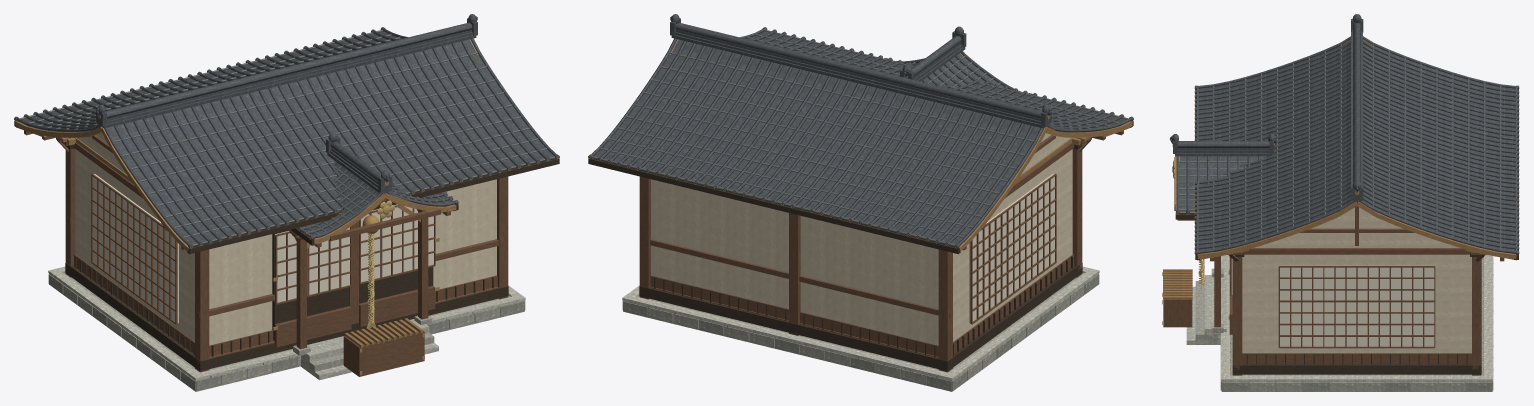
File: shrine_main-exterior-refined-v1.glb
3 views of the same model, side by side, from view 1: azimuth 30°, elevation 25°; view 2: azimuth 150°, elevation 25°; view 3: azimuth 270°, elevation 25° (orthographic). The views are drawn at different scales.
Visible parts, largest first — view 1: shrine_main_01_原有建筑轮廓与构件_EX_50565a_dark_rock_surface, shrine_main_02_屋顶瓦作_EX_50565a_dark_rock_surface, shrine_main_01_原有建筑轮廓与构件_EX_71533d_fine_grained_wood_surface, shrine_main_01_原有建筑轮廓与构件_EX_d5c8ae_grey_plaster_surface, shrine_main_03_窗面与灯具_EX_e6deca_Paper001_window, shrine_main_01_原有建筑轮廓与构件_EX_41362b_fine_grained_wood_surface, shrine_main_01_原有建筑轮廓与构件_EX_6d7070_plain_surface, shrine_main_01_原有建筑轮廓与构件_EX_a4a49a_dark_rock_surface, shrine_main_01_原有建筑轮廓与构件_EX_a17c51_fine_grained_wood_surface, shrine_main_01_原有建筑轮廓与构件_EX_bebdaf_dark_rock_surface, shrine_main_01_原有建筑轮廓与构件_EX_92968b_dark_rock_surface, shrine_main_01_原有建筑轮廓与构件_EX_b5b5a9_dark_rock_surface (+1 smaller); view 2: shrine_main_02_屋顶瓦作_EX_50565a_dark_rock_surface, shrine_main_01_原有建筑轮廓与构件_EX_50565a_dark_rock_surface, shrine_main_01_原有建筑轮廓与构件_EX_d5c8ae_grey_plaster_surface, shrine_main_01_原有建筑轮廓与构件_EX_71533d_fine_grained_wood_surface, shrine_main_01_原有建筑轮廓与构件_EX_41362b_fine_grained_wood_surface, shrine_main_01_原有建筑轮廓与构件_EX_6d7070_plain_surface, shrine_main_03_窗面与灯具_EX_e6deca_Paper001_window, shrine_main_01_原有建筑轮廓与构件_EX_a4a49a_dark_rock_surface, shrine_main_01_原有建筑轮廓与构件_EX_bebdaf_dark_rock_surface, shrine_main_01_原有建筑轮廓与构件_EX_92968b_dark_rock_surface, shrine_main_01_原有建筑轮廓与构件_EX_a17c51_fine_grained_wood_surface; view 3: shrine_main_01_原有建筑轮廓与构件_EX_50565a_dark_rock_surface, shrine_main_02_屋顶瓦作_EX_50565a_dark_rock_surface, shrine_main_01_原有建筑轮廓与构件_EX_71533d_fine_grained_wood_surface, shrine_main_01_原有建筑轮廓与构件_EX_d5c8ae_grey_plaster_surface, shrine_main_03_窗面与灯具_EX_e6deca_Paper001_window, shrine_main_01_原有建筑轮廓与构件_EX_6d7070_plain_surface, shrine_main_01_原有建筑轮廓与构件_EX_a4a49a_dark_rock_surface, shrine_main_01_原有建筑轮廓与构件_EX_bebdaf_dark_rock_surface, shrine_main_01_原有建筑轮廓与构件_EX_41362b_fine_grained_wood_surface, shrine_main_01_原有建筑轮廓与构件_EX_a17c51_fine_grained_wood_surface, shrine_main_01_原有建筑轮廓与构件_EX_b5b5a9_dark_rock_surface, shrine_main_01_原有建筑轮廓与构件_EX_92968b_dark_rock_surface.
Boxes of the visible parts, x1,y1,x2,y2 form: shrine_main_01_原有建筑轮廓与构件_EX_50565a_dark_rock_surface: (14, 18, 559, 248); shrine_main_02_屋顶瓦作_EX_50565a_dark_rock_surface: (22, 31, 553, 244); shrine_main_01_原有建筑轮廓与构件_EX_71533d_fine_grained_wood_surface: (24, 130, 508, 376); shrine_main_01_原有建筑轮廓与构件_EX_d5c8ae_grey_plaster_surface: (75, 133, 496, 345); shrine_main_03_窗面与灯具_EX_e6deca_Paper001_window: (93, 174, 433, 323); shrine_main_01_原有建筑轮廓与构件_EX_41362b_fine_grained_wood_surface: (14, 120, 559, 371); shrine_main_01_原有建筑轮廓与构件_EX_6d7070_plain_surface: (19, 30, 554, 246); shrine_main_01_原有建筑轮廓与构件_EX_a4a49a_dark_rock_surface: (49, 272, 524, 391); shrine_main_01_原有建筑轮廓与构件_EX_a17c51_fine_grained_wood_surface: (15, 39, 554, 347); shrine_main_01_原有建筑轮廓与构件_EX_bebdaf_dark_rock_surface: (48, 266, 525, 380); shrine_main_01_原有建筑轮廓与构件_EX_92968b_dark_rock_surface: (48, 274, 525, 390); shrine_main_01_原有建筑轮廓与构件_EX_b5b5a9_dark_rock_surface: (300, 319, 438, 380); shrine_main_02_屋顶瓦作_EX_50565a_dark_rock_surface: (594, 31, 1125, 244); shrine_main_01_原有建筑轮廓与构件_EX_50565a_dark_rock_surface: (588, 18, 1133, 248); shrine_main_01_原有建筑轮廓与构件_EX_d5c8ae_grey_plaster_surface: (651, 133, 1072, 345); shrine_main_01_原有建筑轮廓与构件_EX_71533d_fine_grained_wood_surface: (639, 130, 1123, 372); shrine_main_01_原有建筑轮廓与构件_EX_41362b_fine_grained_wood_surface: (588, 120, 1133, 371); shrine_main_01_原有建筑轮廓与构件_EX_6d7070_plain_surface: (593, 30, 1128, 246); shrine_main_03_窗面与灯具_EX_e6deca_Paper001_window: (969, 174, 1054, 323); shrine_main_01_原有建筑轮廓与构件_EX_a4a49a_dark_rock_surface: (623, 272, 1098, 391); shrine_main_01_原有建筑轮廓与构件_EX_bebdaf_dark_rock_surface: (622, 266, 1099, 380); shrine_main_01_原有建筑轮廓与构件_EX_92968b_dark_rock_surface: (622, 274, 1099, 390); shrine_main_01_原有建筑轮廓与构件_EX_a17c51_fine_grained_wood_surface: (593, 39, 1132, 251); shrine_main_01_原有建筑轮廓与构件_EX_50565a_dark_rock_surface: (1173, 19, 1518, 254); shrine_main_02_屋顶瓦作_EX_50565a_dark_rock_surface: (1179, 40, 1515, 250); shrine_main_01_原有建筑轮廓与构件_EX_71533d_fine_grained_wood_surface: (1163, 157, 1504, 375); shrine_main_01_原有建筑轮廓与构件_EX_d5c8ae_grey_plaster_surface: (1242, 207, 1471, 353); shrine_main_03_窗面与灯具_EX_e6deca_Paper001_window: (1231, 258, 1434, 346); shrine_main_01_原有建筑轮廓与构件_EX_6d7070_plain_surface: (1179, 44, 1517, 250); shrine_main_01_原有建筑轮廓与构件_EX_a4a49a_dark_rock_surface: (1195, 256, 1493, 391); shrine_main_01_原有建筑轮廓与构件_EX_bebdaf_dark_rock_surface: (1221, 255, 1492, 381); shrine_main_01_原有建筑轮廓与构件_EX_41362b_fine_grained_wood_surface: (1175, 89, 1518, 374); shrine_main_01_原有建筑轮廓与构件_EX_a17c51_fine_grained_wood_surface: (1163, 39, 1516, 299); shrine_main_01_原有建筑轮廓与构件_EX_b5b5a9_dark_rock_surface: (1186, 275, 1226, 344); shrine_main_01_原有建筑轮廓与构件_EX_92968b_dark_rock_surface: (1220, 268, 1493, 391).
Size of the model in its own units: 20.4 by 12.2 by 17.93.
Materials: 19 (14 with a texture image).
